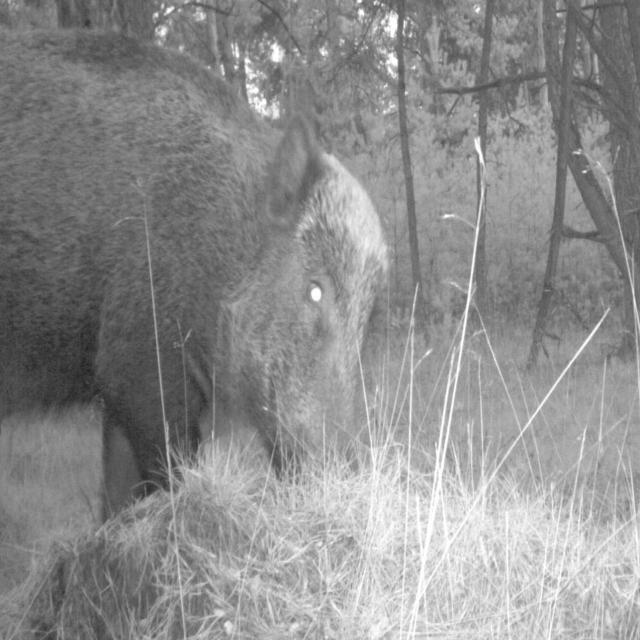pig: (0, 29, 469, 510)
